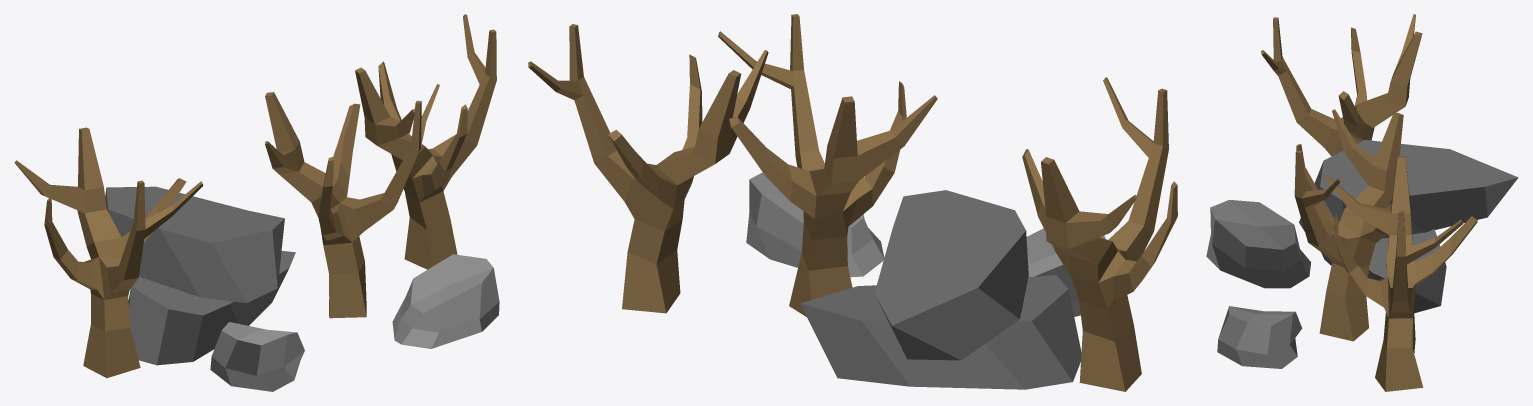
The picture shows the model from 3 angles, left to right: view 1: azimuth 30°, elevation 25°; view 2: azimuth 150°, elevation 25°; view 3: azimuth 270°, elevation 25°; orthographic projection. The views are drawn at different scales.
Visible parts, largest first — view 1: Blockade; view 2: Blockade; view 3: Blockade.
Part boxes in pixels (bbox=[...]): Blockade: bbox=[14, 14, 499, 391]; Blockade: bbox=[528, 14, 1177, 391]; Blockade: bbox=[1206, 14, 1518, 391].
Size of the model in its own units: 21.98 by 9.63 by 13.22.
Materials: 3 (3 with a texture image).
